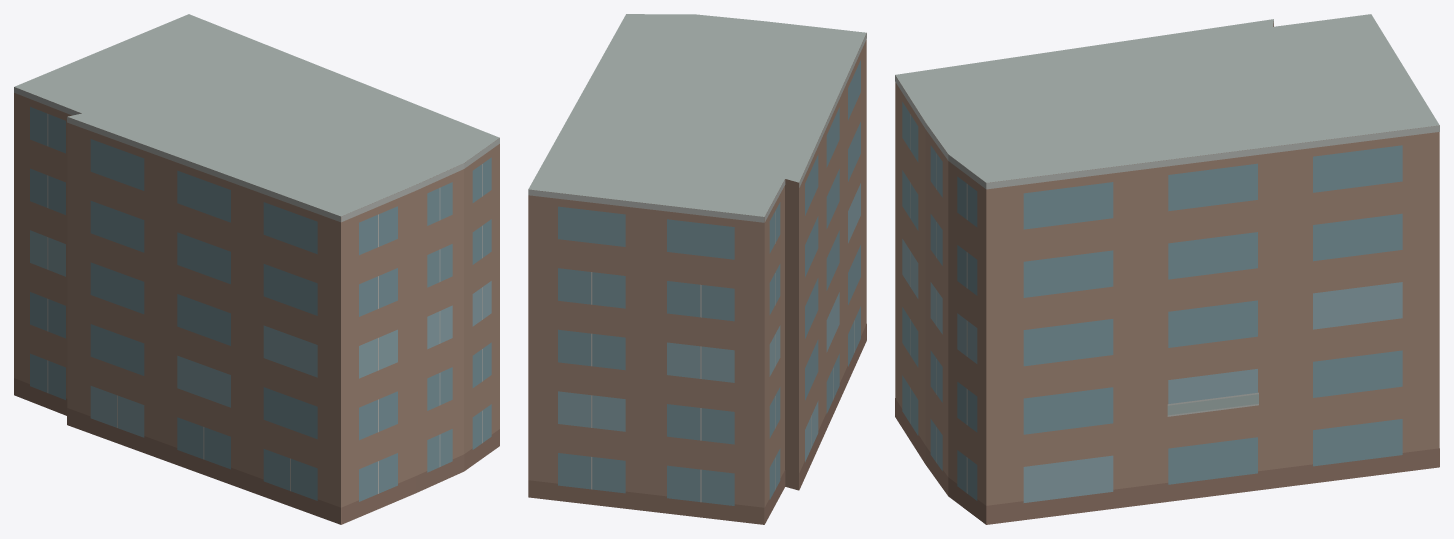
The model's file is survey-upis-32717002.glb.
3 renders of one model, left to right at view 1: azimuth 30°, elevation 25°; view 2: azimuth 150°, elevation 25°; view 3: azimuth 270°, elevation 25°, orthographic. The views are drawn at different scales.
Visible parts, largest first — view 1: survey-upis-32717002.tmp; view 2: survey-upis-32717002.tmp; view 3: survey-upis-32717002.tmp.
Boxes of the visible parts, box(x1,y1,x2,y2) form: survey-upis-32717002.tmp: box(14, 14, 499, 524); survey-upis-32717002.tmp: box(528, 14, 866, 524); survey-upis-32717002.tmp: box(895, 14, 1439, 524).
Bounding box in the file's own units: 13.57 × 12.8 × 18.49.
